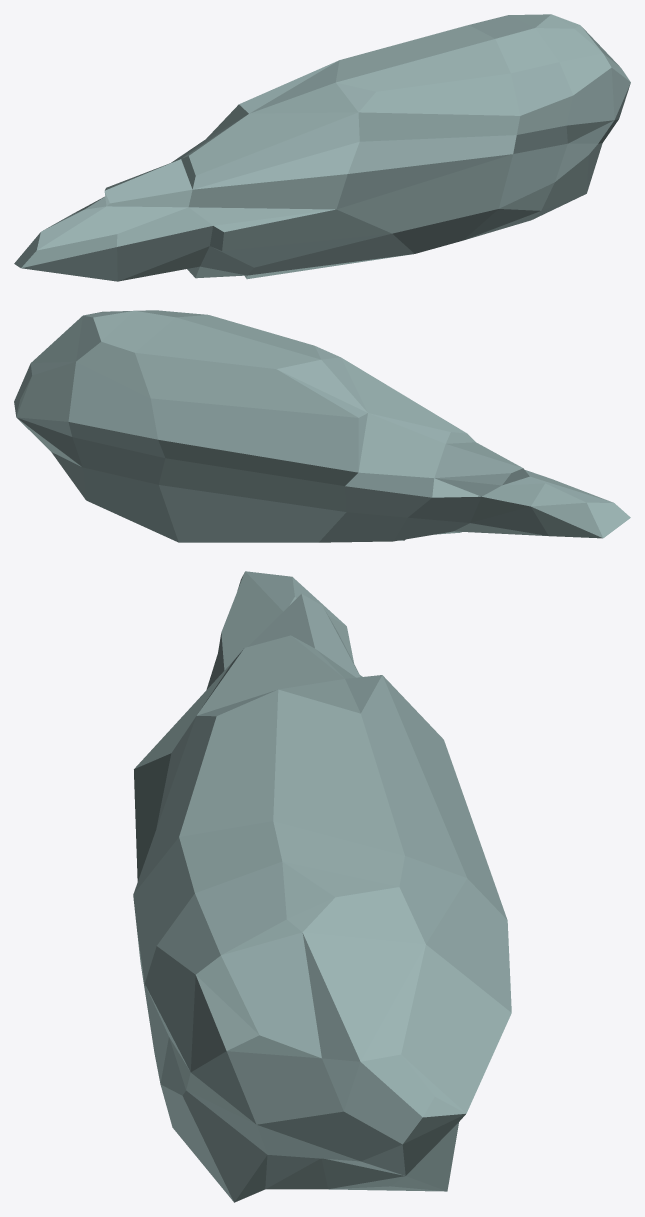
Rendered from Rock_Sharp_Low.fbx.
3 views of the same model, one above another, from view 1: azimuth 30°, elevation 25°; view 2: azimuth 150°, elevation 25°; view 3: azimuth 270°, elevation 25° (orthographic). The views are drawn at different scales.
Parts seen in each view (by area): view 1: Sharp_Pillar_low; view 2: Sharp_Pillar_low; view 3: Sharp_Pillar_low.
Part boxes in pixels (x1=…): Sharp_Pillar_low: x1=14, y1=14, x2=630, y2=281; Sharp_Pillar_low: x1=14, y1=310, x2=630, y2=542; Sharp_Pillar_low: x1=133, y1=571, x2=511, y2=1202.
Size of the model in its own units: 12537 by 3779 by 3557.
